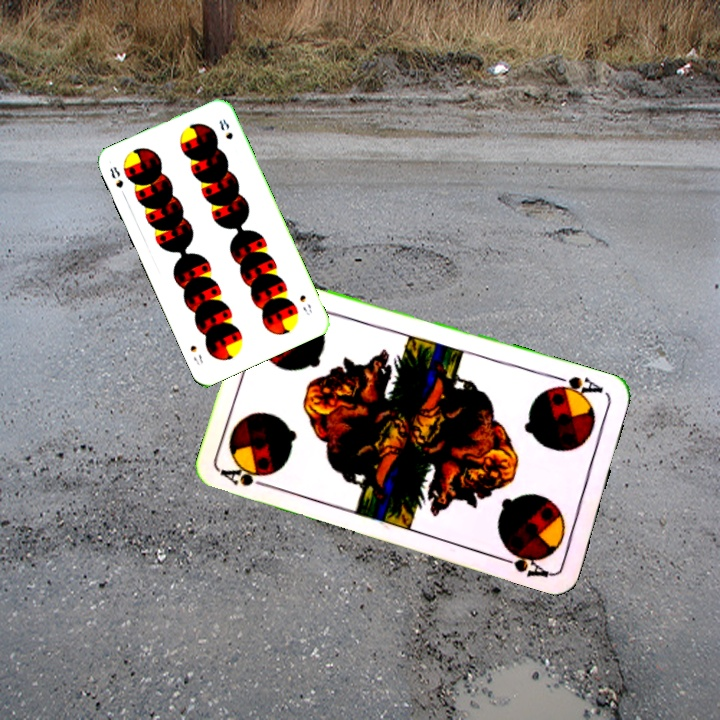S8: (106, 162, 126, 190), (295, 291, 314, 318)
SA: (217, 460, 276, 492), (547, 372, 606, 403)
